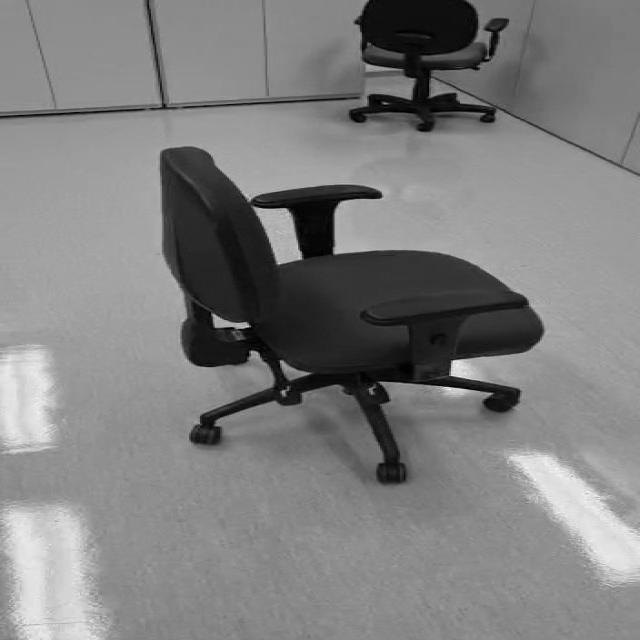cadeira-azul: (160, 147, 543, 484)
